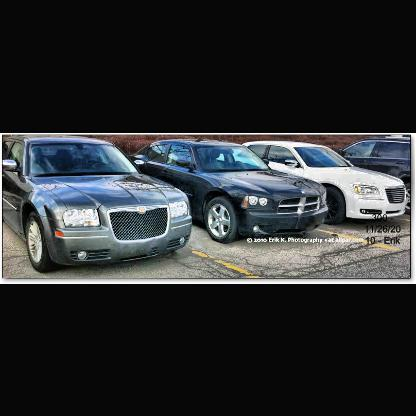Chrysler 300 SRT-8 2010: (3, 135, 195, 275)
